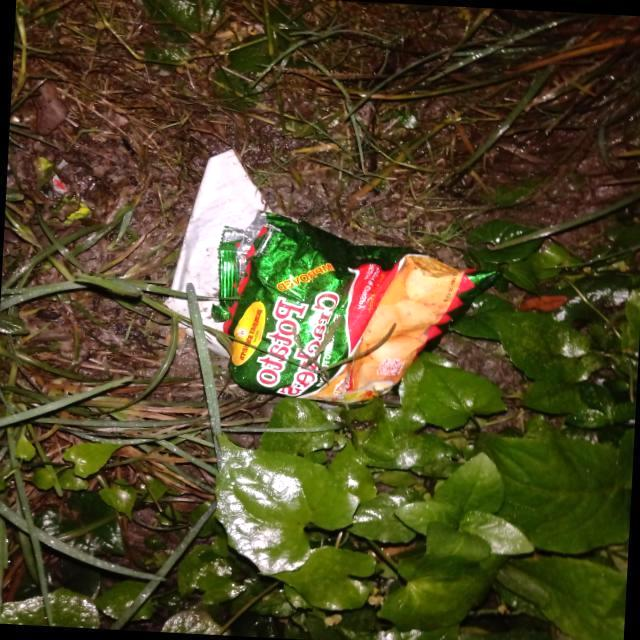packet: (212, 225, 489, 407)
